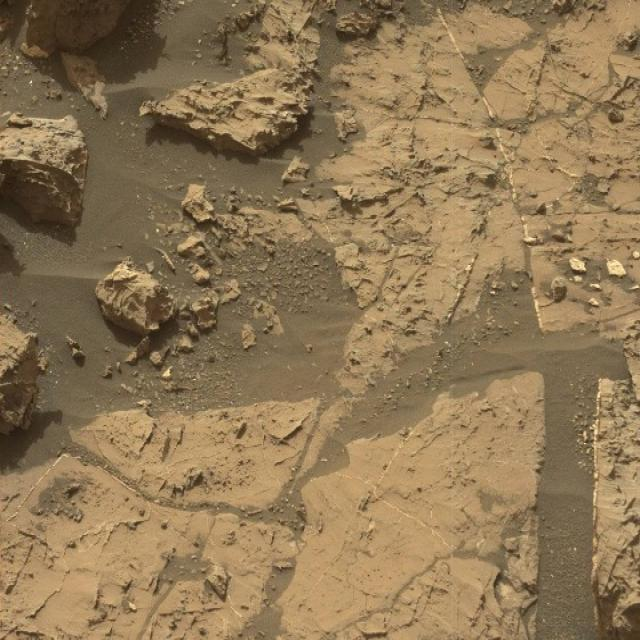rock: (138, 62, 314, 162), (0, 106, 82, 235), (0, 0, 151, 59), (0, 306, 44, 457), (94, 265, 178, 339)
